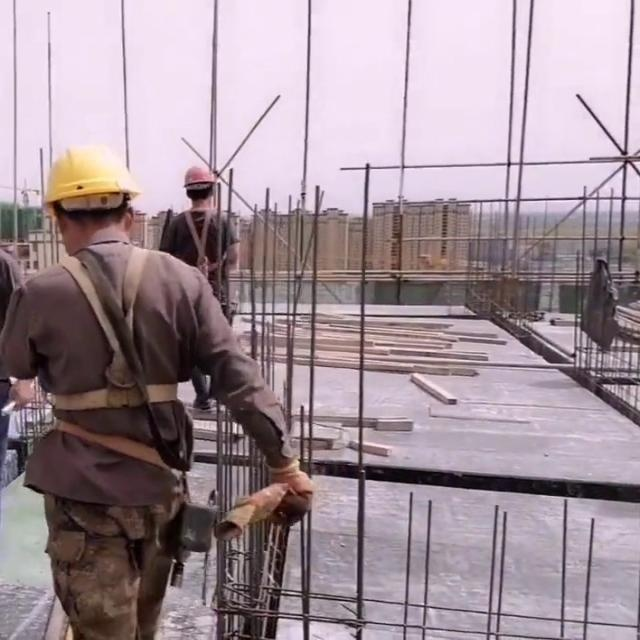Arnes_seguridad: (27, 238, 199, 429), (170, 206, 230, 274)
